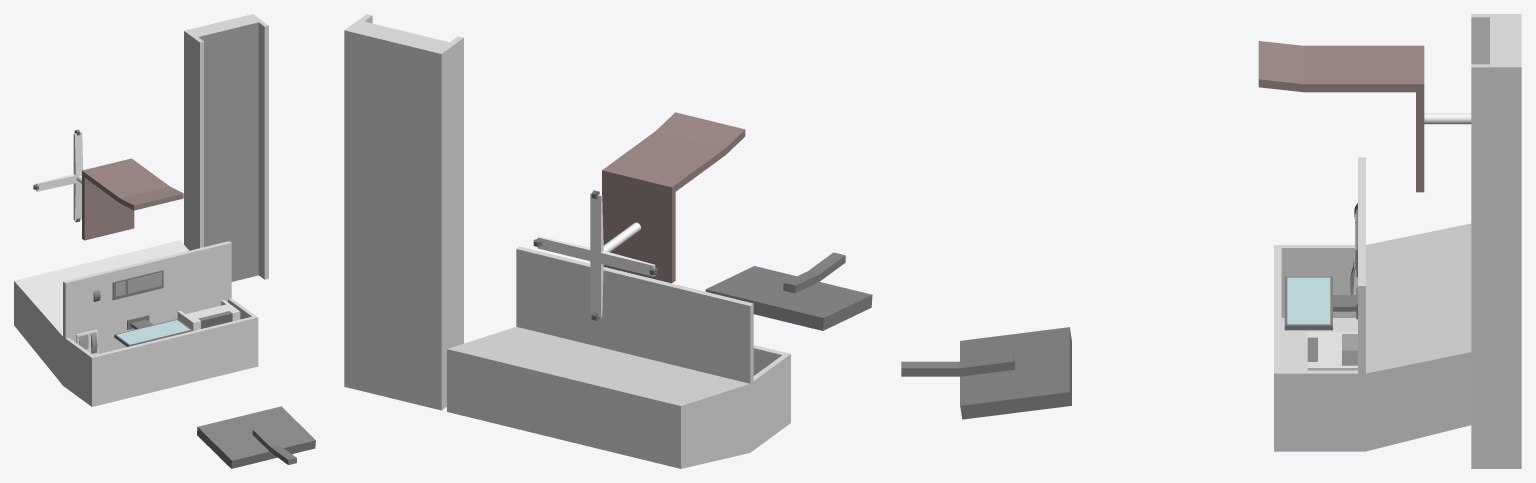
File: check_in_counter.dae
3 views of the same model, side by side, from view 1: azimuth 30°, elevation 25°; view 2: azimuth 150°, elevation 25°; view 3: azimuth 270°, elevation 25° (orthographic). The views are drawn at different scales.
Parts seen in each view (by area): view 1: instance_0_017, instance_0_019, instance_0_018, instance_0_003, instance_0_020, instance_0_031, instance_0_010, instance_0_015, instance_0, instance_0_005, instance_0_021, instance_0_014; view 2: instance_0_017, instance_0_018, instance_0_003, instance_0_020, instance_0_031; view 3: instance_0_017, instance_0_018, instance_0_020, instance_0_003, instance_0_010, instance_0, instance_0_005.
Part boxes in pixels (x1,y1,x2,y2): instance_0_017: (14,240,258,406); instance_0_019: (198,22,258,281); instance_0_018: (184,14,268,279); instance_0_003: (82,158,183,240); instance_0_020: (197,406,315,468); instance_0_031: (36,132,83,220); instance_0_010: (117,320,189,344); instance_0_015: (78,272,161,349); instance_0: (177,300,240,330); instance_0_005: (114,319,192,346); instance_0_021: (112,270,163,300); instance_0_014: (198,311,232,328); instance_0_017: (447,246,790,468); instance_0_018: (344,14,463,410); instance_0_003: (602,112,745,283); instance_0_020: (705,252,872,330); instance_0_031: (537,192,655,317); instance_0_017: (1274,157,1471,451); instance_0_018: (1471,14,1521,468); instance_0_020: (901,327,1071,419); instance_0_003: (1258,41,1424,192); instance_0_010: (1287,277,1330,324); instance_0: (1307,331,1357,370); instance_0_005: (1284,276,1356,330).
Bounding box in the file's own units: 920 × 1028 × 1305.
